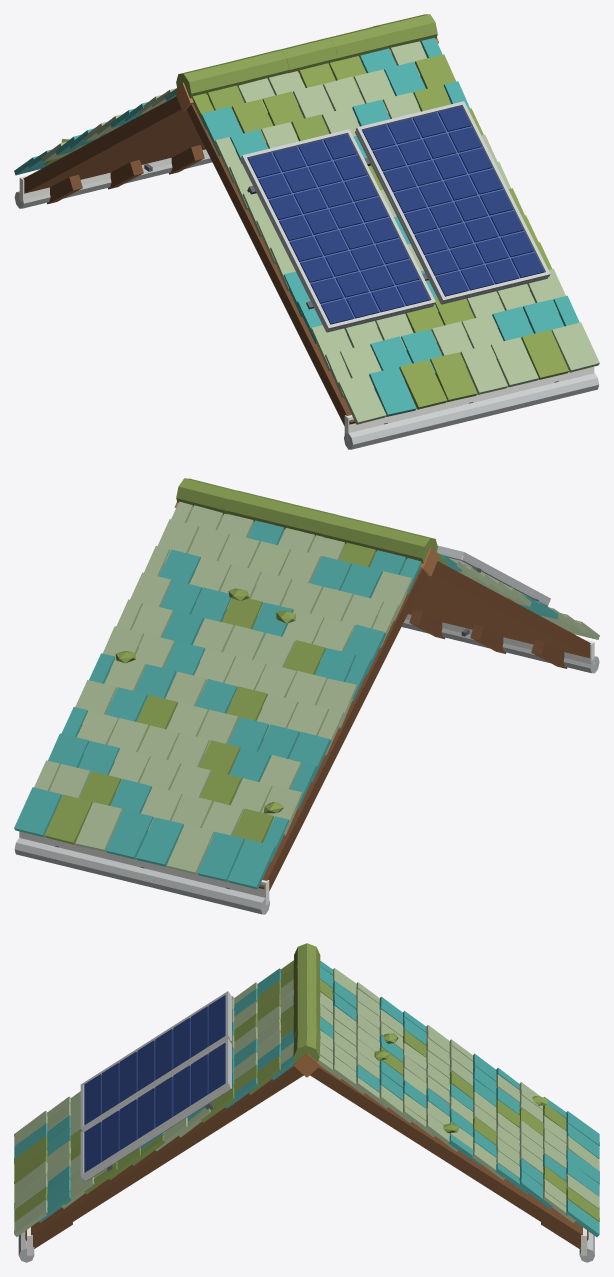
File: roof_module_solar.glb
3 renders of one model, top to bottom at view 1: azimuth 30°, elevation 25°; view 2: azimuth 150°, elevation 25°; view 3: azimuth 270°, elevation 25°, orthographic. The views are drawn at different scales.
Parts seen in each view (by area): view 1: Roof Module Solar; view 2: Roof Module Solar; view 3: Roof Module Solar.
Boxes of the visible parts, box(x1,y1,x2,y2) form: Roof Module Solar: box(14, 14, 599, 449); Roof Module Solar: box(14, 478, 599, 914); Roof Module Solar: box(14, 943, 599, 1262).
Size of the model in its own units: 2.04 by 2.01 by 4.89.
1 material, 1 textured.
